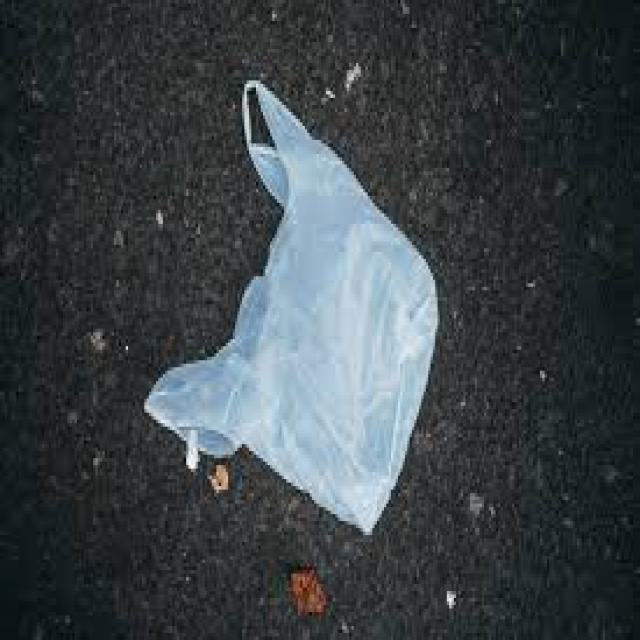Plastic: (147, 59, 445, 544)
